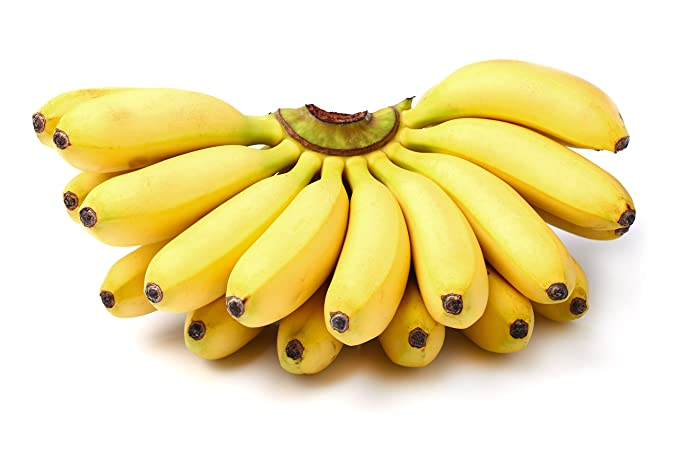banana: (32, 57, 637, 376)
